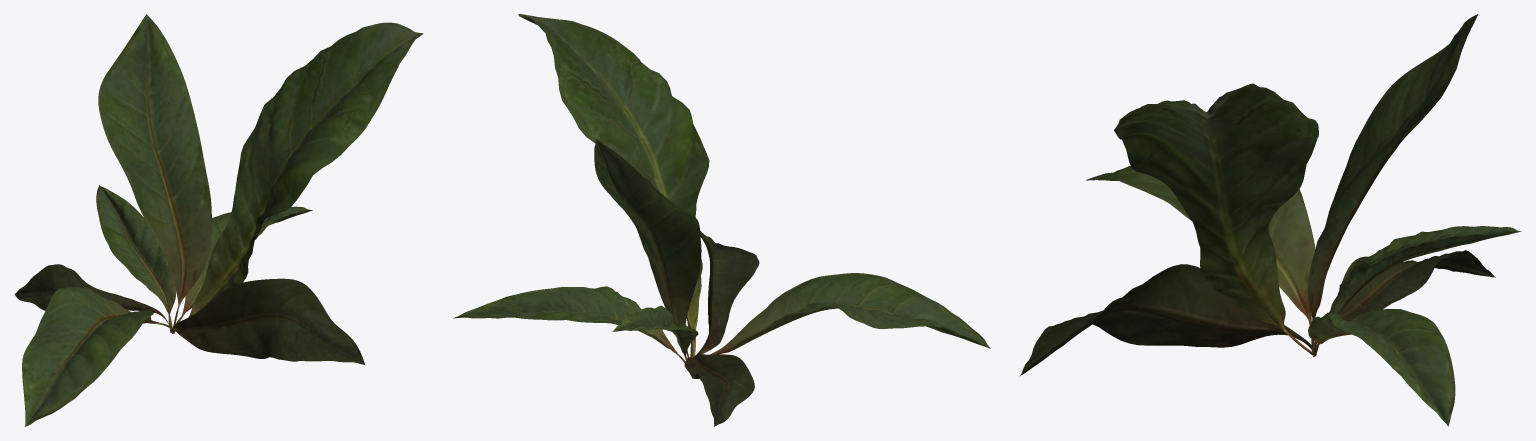
The model's file is anthurium_botany_01_a.gltf.
3 views of the same model, side by side, from view 1: azimuth 30°, elevation 25°; view 2: azimuth 150°, elevation 25°; view 3: azimuth 270°, elevation 25° (orthographic). The views are drawn at different scales.
Parts seen in each view (by area): view 1: anthurium_botany_04_d; view 2: anthurium_botany_04_d; view 3: anthurium_botany_04_d.
Boxes of the visible parts, x1=… form: anthurium_botany_04_d: x1=14, y1=14, x2=423, y2=426; anthurium_botany_04_d: x1=453, y1=14, x2=990, y2=426; anthurium_botany_04_d: x1=1019, y1=14, x2=1521, y2=426.
Bounding box in the file's own units: 0.4809 × 0.3012 × 0.3507.
1 material, 1 textured.
